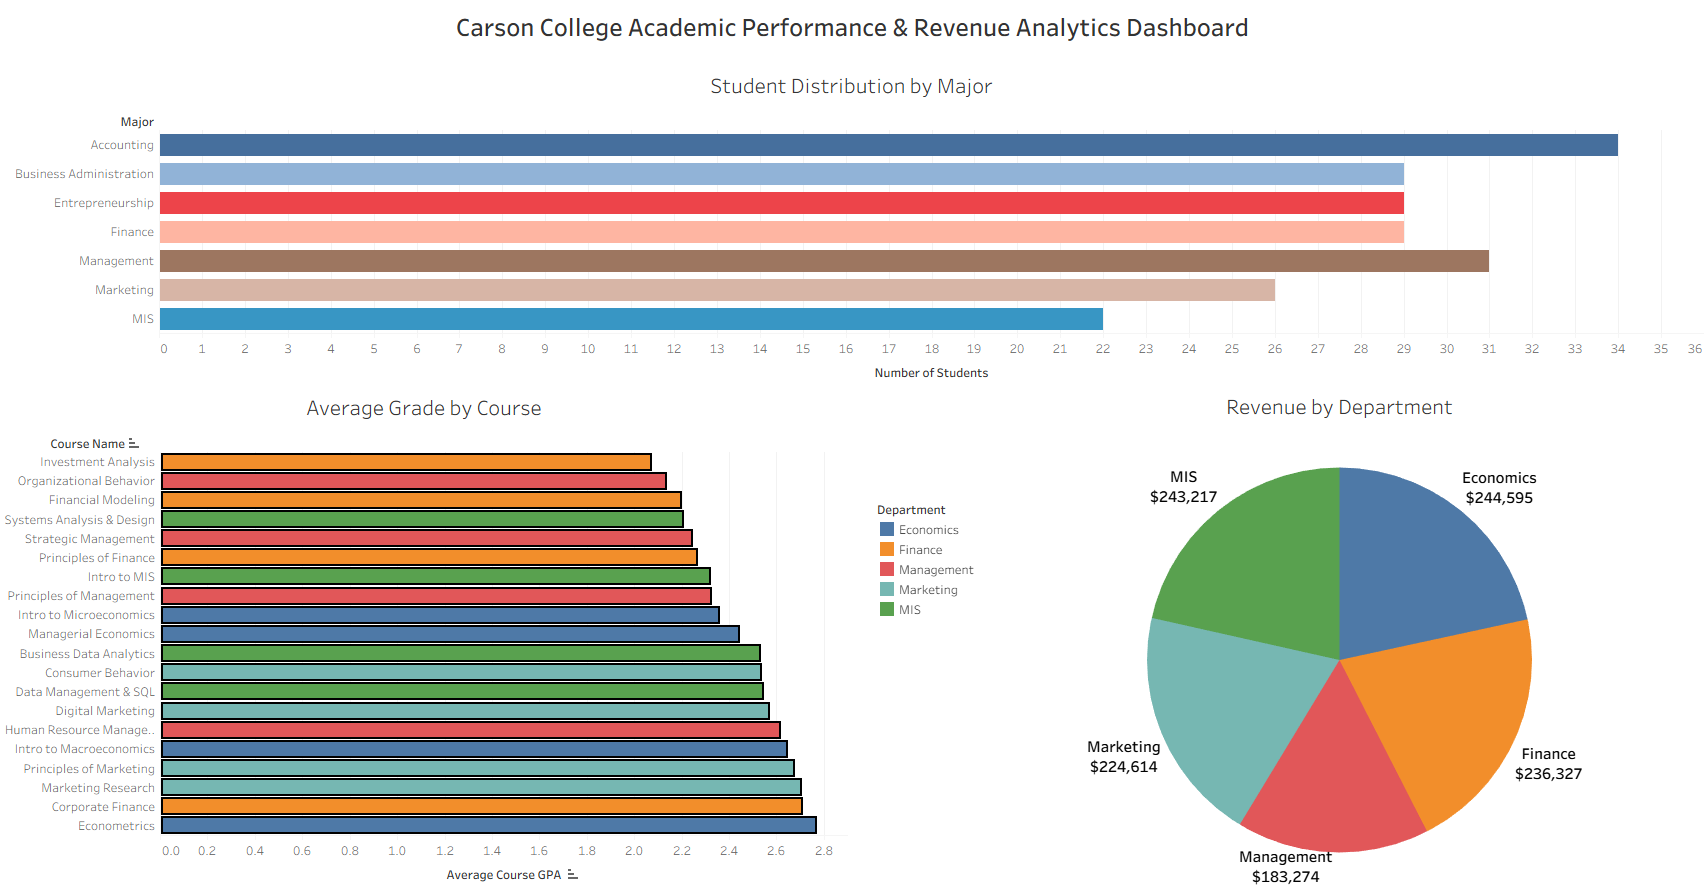

This screenshot's page, from the dashboard's own definition file:
{"tool":"tableau","page":{"name":"Dashboard 1","canvas":[1000,1000],"units":"permille","ordinal":0},"visuals":[{"type":"title","box":[4.7,8.9,990.6,45.8]},{"type":"worksheet","title":"Student Distribution","mark":"Automatic","rows":["major"],"cols":["student_id (Students_202608211019.csv)"],"box":[0.6,77,997.7,358.3]},{"type":"worksheet","title":"Department Revenue","mark":"Pie","box":[572.9,435.3,424.2,559.1]},{"type":"worksheet","title":"Avg Grade","mark":"Automatic","rows":["course_name"],"cols":["Calculation_1926381026713600"],"box":[1.2,436.4,496.2,559.1]},{"type":"legend","title":"Avg Grade","param":"[federated.1u7favm1jtruxd1gq20qe08onkuj].[none:department:nk]","box":[514.3,561.4,81.9,131.7]}]}

Visuals, with their boxes on the dashboard's canvas, which has no fixed pixel size, in thousandths of its width and height (x1, y1, x2, y2). These are canvas units, not pixel positions in the 1705x892 screenshot, which may show the page scaled, cropped or inside an application window:
title: 5 9 995 55
"Student Distribution" worksheet: 1 77 998 435
"Department Revenue" worksheet (Pie marks): 573 435 997 994
"Avg Grade" worksheet: 1 436 497 996
"Avg Grade" legend: 514 561 596 693
